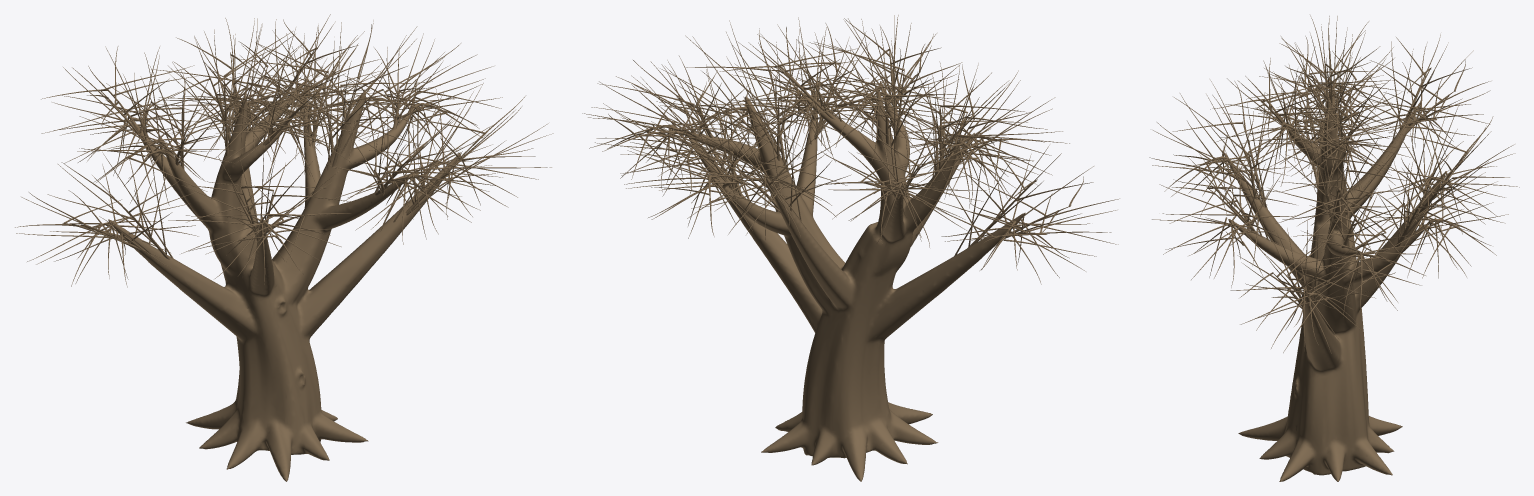
Rendered from wood-C1bpCIJP.glb.
3 renders of one model, left to right at view 1: azimuth 30°, elevation 25°; view 2: azimuth 150°, elevation 25°; view 3: azimuth 270°, elevation 25°, orthographic. The views are drawn at different scales.
Visible parts, largest first — view 1: Wood; view 2: Wood; view 3: Wood.
Boxes of the visible parts, x1,y1,x2,y2 form: Wood: (15,14,553,481); Wood: (582,15,1119,481); Wood: (1149,15,1519,481).
Bounding box in the file's own units: 8.03 × 6.3 × 5.17.
